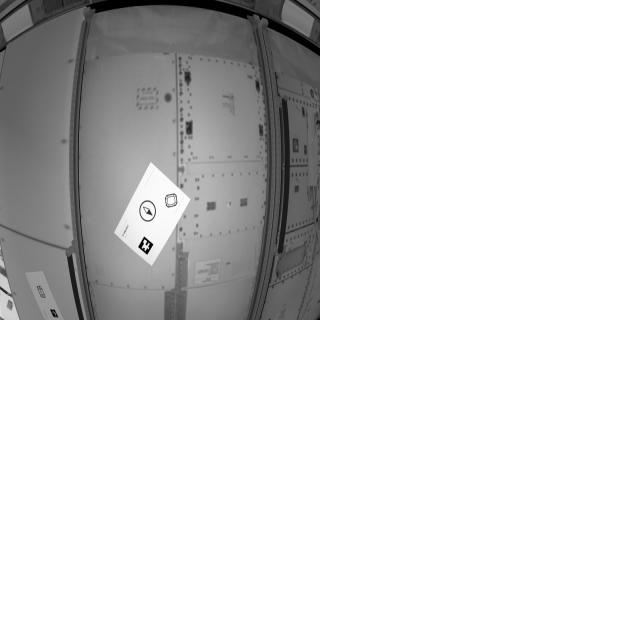compass: (140, 200, 157, 222)
emerald: (164, 193, 180, 210)
treasure_box: (37, 285, 48, 302)
